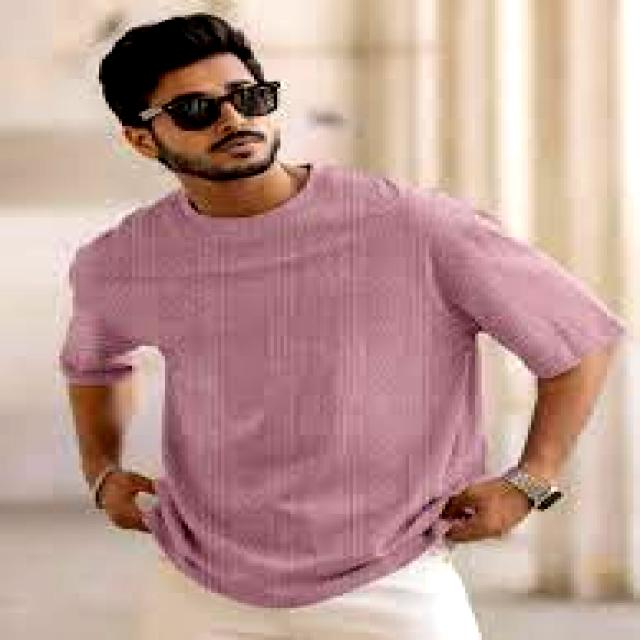face: (126, 102, 280, 180)
lower-wear: (139, 549, 481, 639)
top-wear: (60, 164, 626, 607)
